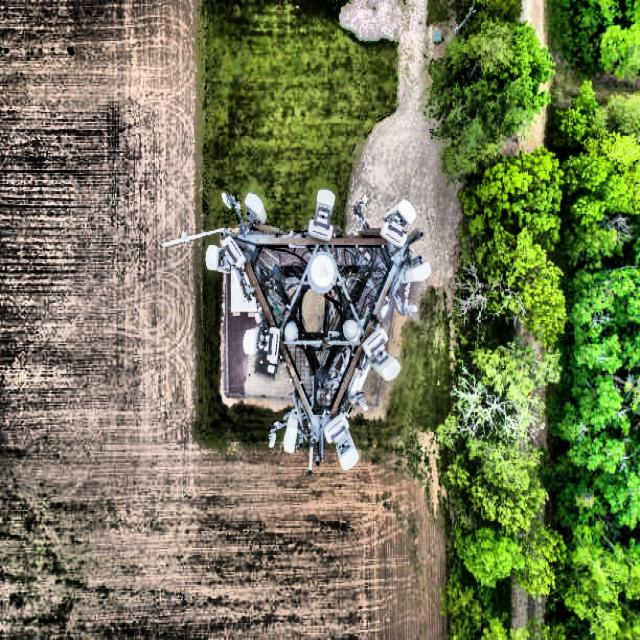antenna: (362, 326, 400, 381), (242, 325, 280, 374), (324, 415, 358, 469), (380, 199, 415, 247), (205, 236, 245, 271), (308, 189, 334, 240), (401, 256, 431, 283), (244, 193, 266, 224)
